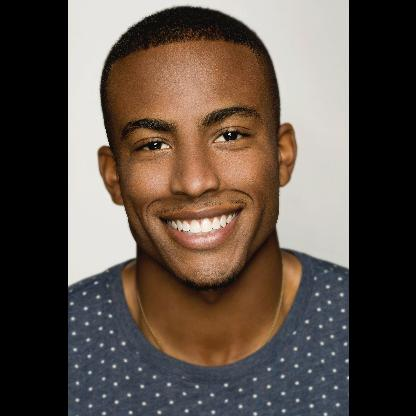Male: (96, 44, 296, 292)
